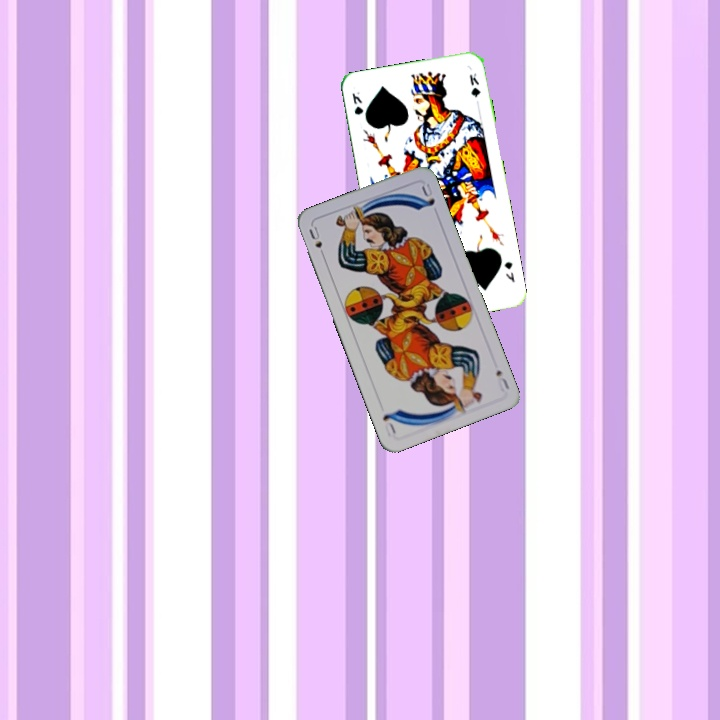GK: (348, 87, 366, 117), (500, 258, 517, 285)
SU: (305, 222, 328, 261), (492, 366, 512, 394)
